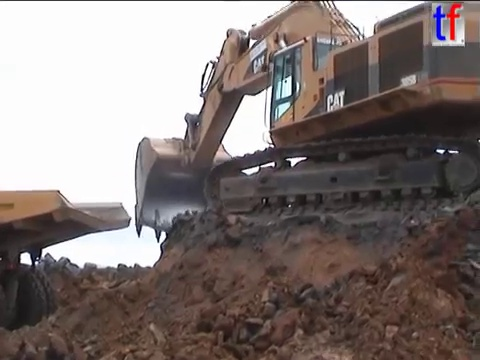excavator: (131, 1, 480, 244)
truck: (1, 186, 133, 341)
